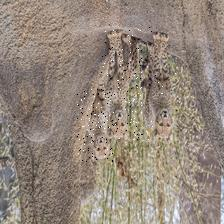Cheetha: (100, 29, 141, 140), (139, 24, 178, 140), (76, 89, 112, 162)
